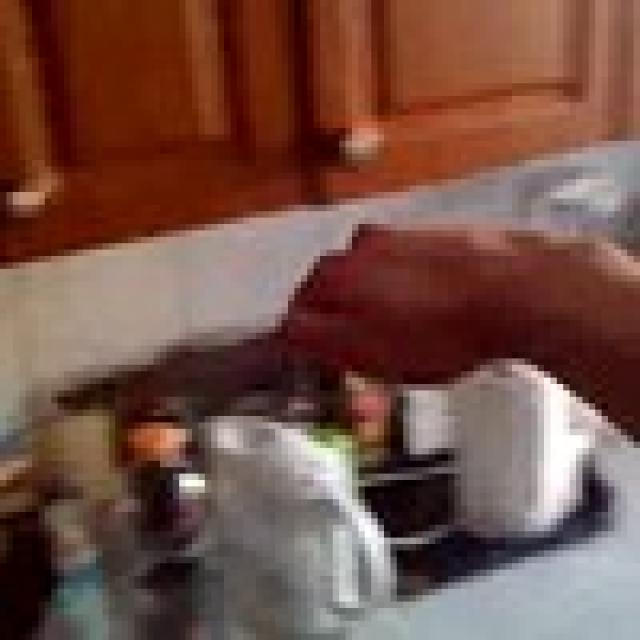Knife: (64, 320, 333, 410)
